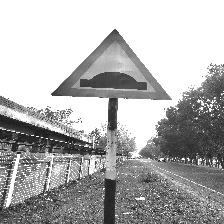Speed-breaker: (57, 36, 164, 97)
